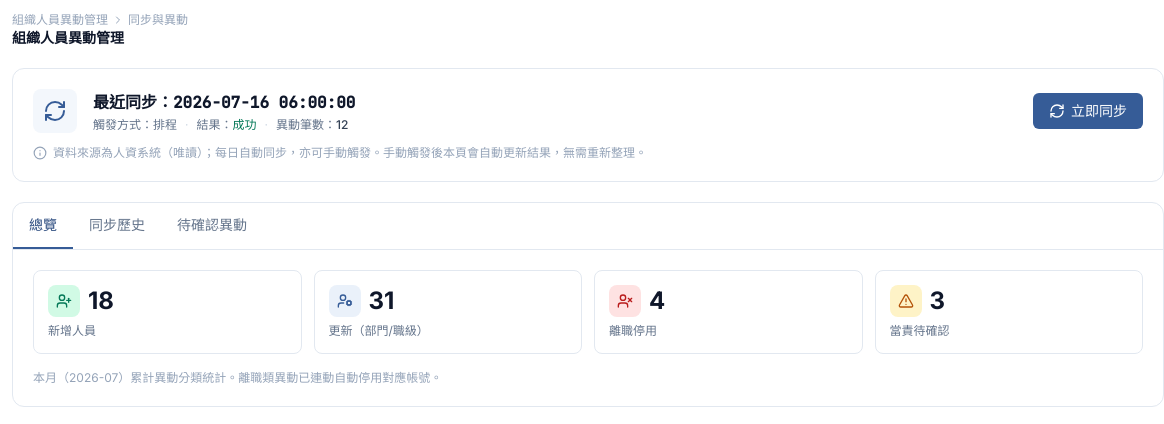
Test case: OrgSyncPage — 同步狀態/歷史（US-011 回歸，移入頁籤後） › B 階段：某公司 SYNC_IN_PROGRESS → 200 陣列中標記該公司，顯示提示（不再是 409）
The width and height of the screenshot is (1164, 424).
Click the button "立即同步".
click(1088, 111)  # box [1033,93,1143,129]
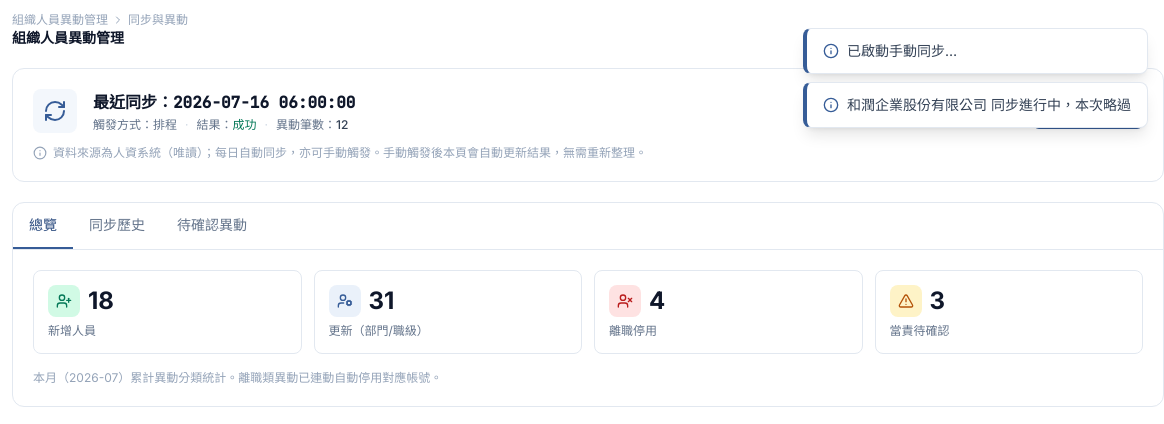
Now the text "和潤企業股份有限公司 同步進行中，本次略過" is shown, box [847,95,1131,115]
